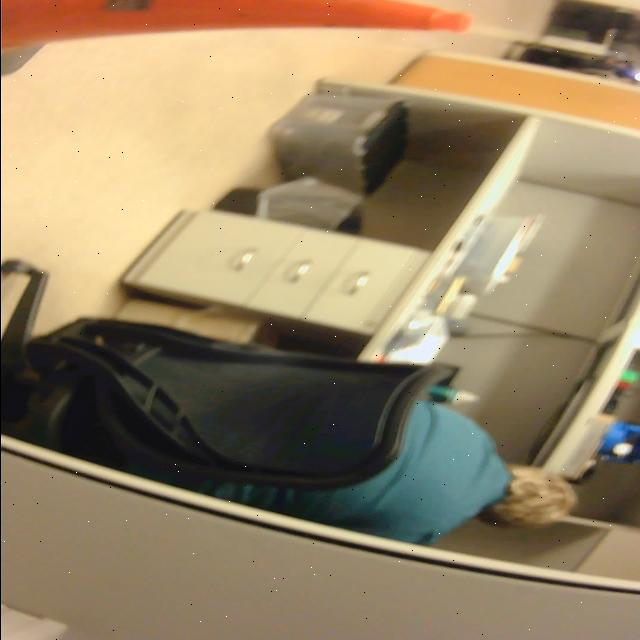traffic cone: (2, 1, 484, 82)
